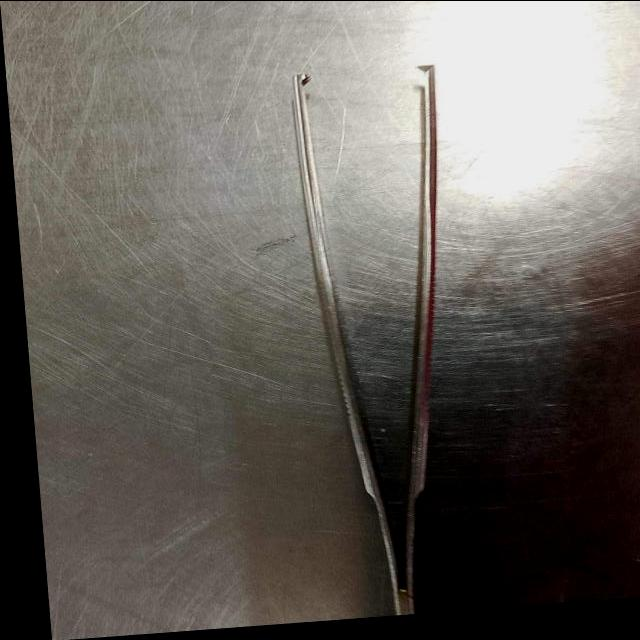General: (1, 1, 638, 636)
Sharps: (289, 70, 411, 614), (400, 62, 439, 611)
